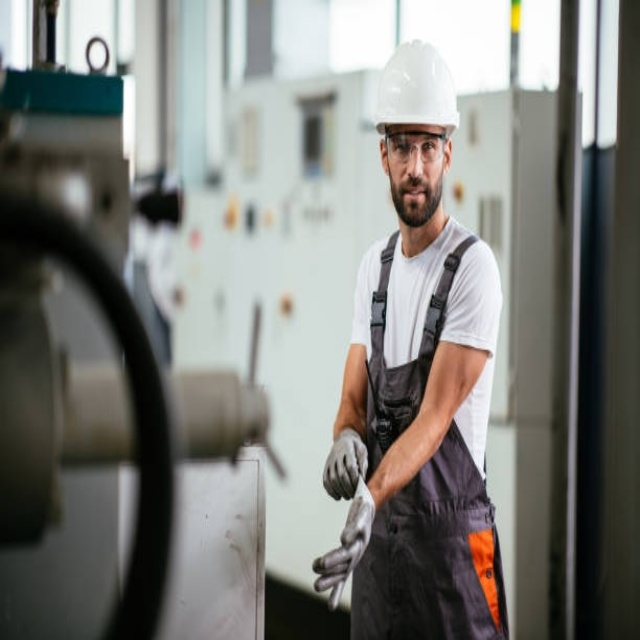Gafas: (385, 133, 448, 167)
Guantes: (313, 478, 376, 613), (323, 428, 368, 500)
Sin_mascara: (393, 177, 432, 216)
